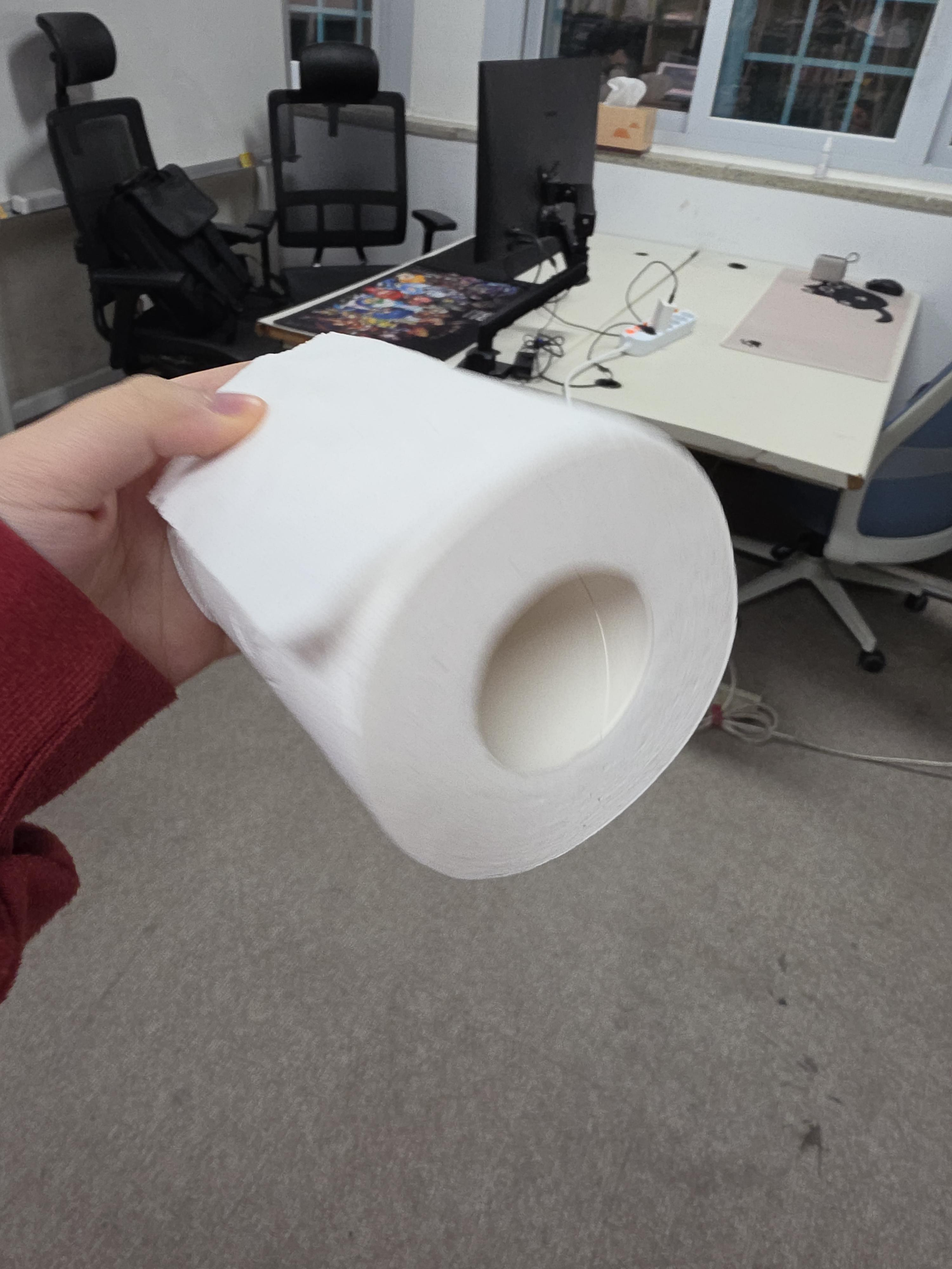tissue: (148, 332, 739, 881), (597, 76, 657, 152)
